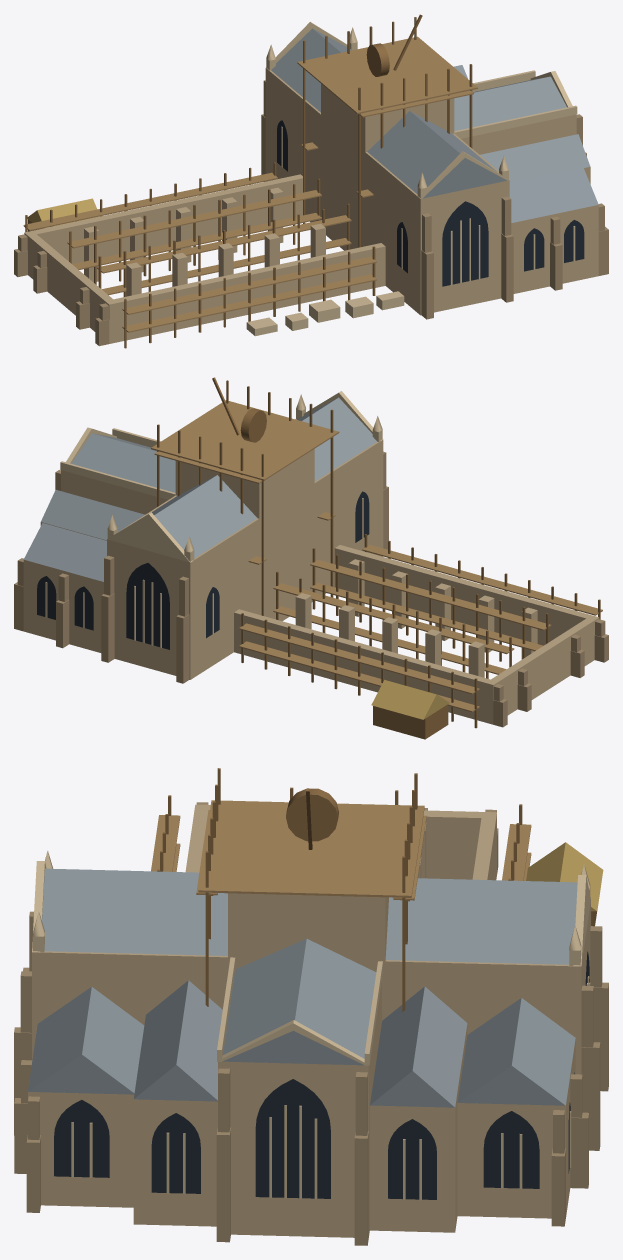
Rendered from crooked-spire-b25.glb.
3 views of the same model, one above another, from view 1: azimuth 30°, elevation 25°; view 2: azimuth 150°, elevation 25°; view 3: azimuth 270°, elevation 25° (orthographic). The views are drawn at different scales.
Size of the model in its own units: 5.56 by 2.33 by 3.62.
